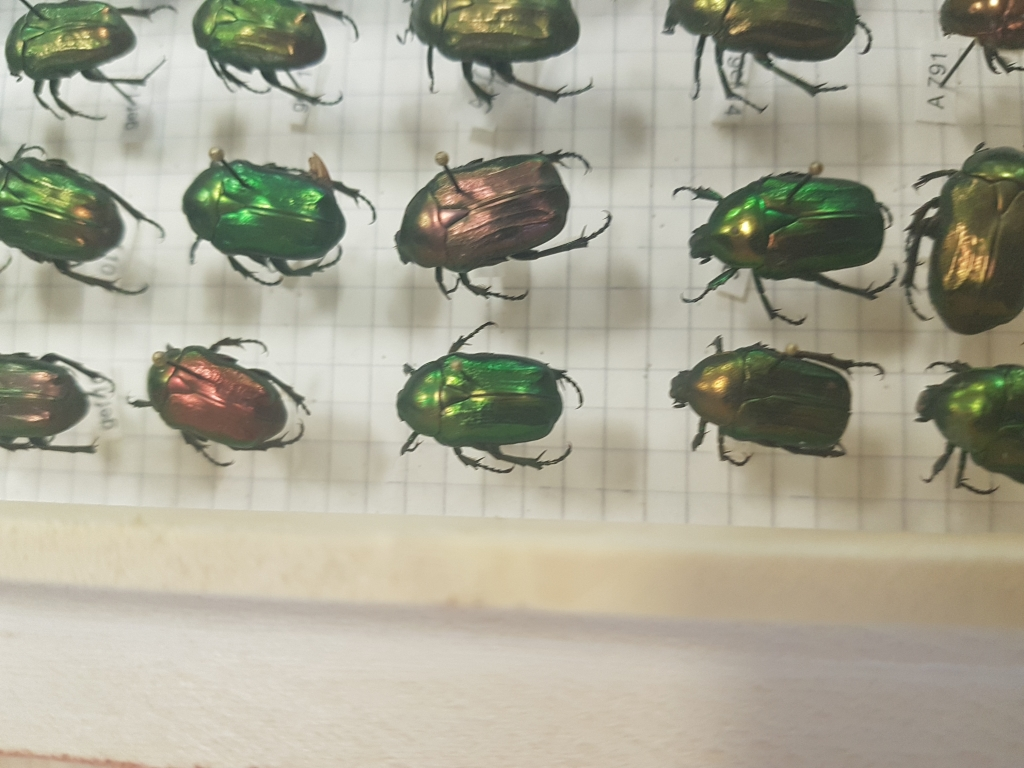Cetonia_aurata: (402, 151, 615, 306)
